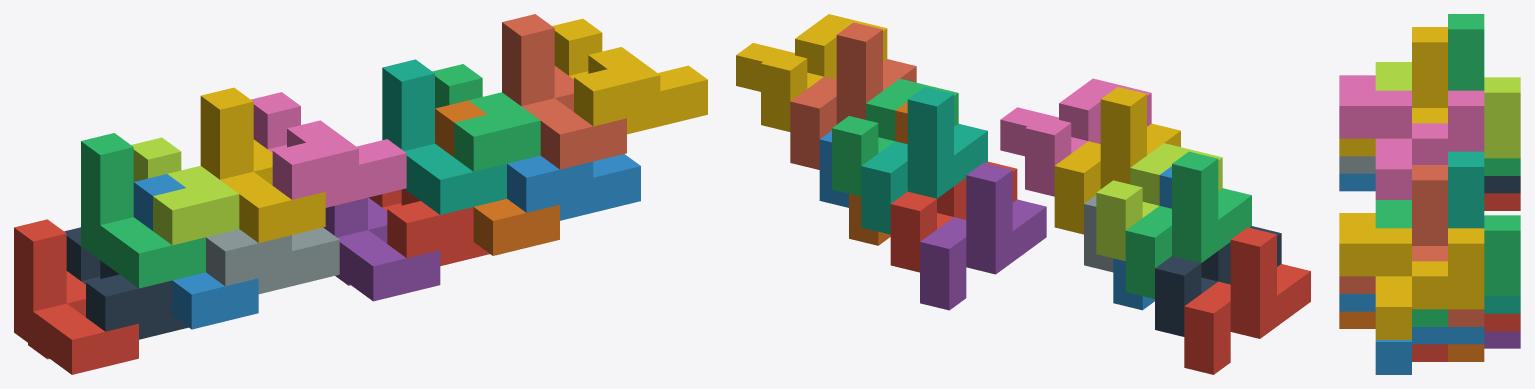
Rendered from tiling.obj.
3 renders of one model, left to right at view 1: azimuth 30°, elevation 25°; view 2: azimuth 150°, elevation 25°; view 3: azimuth 270°, elevation 25°, orthographic. The views are drawn at different scales.
Visible parts, largest first — view 1: copy_1_domain_1, copy_2_domain_4, copy_2_domain_8, copy_1_domain_3, copy_1_domain_4, copy_1_domain_8, copy_1_domain_7, copy_1_domain_5, copy_2_domain_3, copy_2_domain_7, copy_2_domain_2, copy_2_domain_6 (+4 smaller); view 2: copy_1_domain_1, copy_1_domain_5, copy_1_domain_7, copy_1_domain_3, copy_1_domain_4, copy_1_domain_8, copy_2_domain_4, copy_2_domain_8, copy_2_domain_3, copy_2_domain_7, copy_2_domain_5, copy_2_domain_1 (+4 smaller); view 3: copy_2_domain_8, copy_2_domain_4, copy_1_domain_8, copy_2_domain_7, copy_1_domain_4, copy_2_domain_3, copy_1_domain_7, copy_1_domain_3, copy_2_domain_6, copy_2_domain_5, copy_1_domain_6, copy_1_domain_2 (+4 smaller).
Boxes of the visible parts, x1,y1,x2,y2 form: copy_1_domain_1: [14, 219, 138, 374]; copy_2_domain_4: [251, 92, 406, 207]; copy_2_domain_8: [552, 18, 707, 134]; copy_1_domain_3: [81, 133, 205, 288]; copy_1_domain_4: [200, 87, 325, 242]; copy_1_domain_8: [502, 14, 626, 169]; copy_1_domain_7: [382, 59, 506, 214]; copy_1_domain_5: [323, 197, 440, 301]; copy_2_domain_3: [131, 137, 239, 245]; copy_2_domain_7: [432, 64, 540, 171]; copy_2_domain_2: [206, 227, 339, 294]; copy_2_domain_6: [507, 154, 640, 220]; copy_1_domain_1: [1184, 227, 1310, 374]; copy_1_domain_5: [920, 163, 1046, 310]; copy_1_domain_7: [861, 87, 987, 234]; copy_1_domain_3: [1125, 151, 1251, 298]; copy_1_domain_4: [1054, 87, 1180, 234]; copy_1_domain_8: [790, 22, 916, 169]; copy_2_domain_4: [1000, 78, 1151, 196]; copy_2_domain_8: [736, 14, 887, 131]; copy_2_domain_3: [1096, 143, 1222, 261]; copy_2_domain_7: [832, 78, 958, 196]; copy_2_domain_5: [890, 161, 1017, 272]; copy_2_domain_1: [1155, 226, 1281, 336]; copy_2_domain_8: [1339, 213, 1484, 339]; copy_2_domain_4: [1339, 75, 1484, 199]; copy_1_domain_8: [1339, 165, 1484, 326]; copy_2_domain_7: [1375, 200, 1520, 326]; copy_1_domain_4: [1339, 27, 1447, 156]; copy_2_domain_3: [1375, 62, 1520, 158]; copy_1_domain_7: [1448, 151, 1520, 313]; copy_1_domain_3: [1448, 14, 1520, 175]; copy_2_domain_6: [1339, 294, 1484, 374]; copy_2_domain_5: [1412, 313, 1520, 361]; copy_1_domain_6: [1339, 311, 1484, 361]; copy_1_domain_2: [1339, 173, 1375, 191].
Size of the model in its own units: 19 by 7 by 5.
